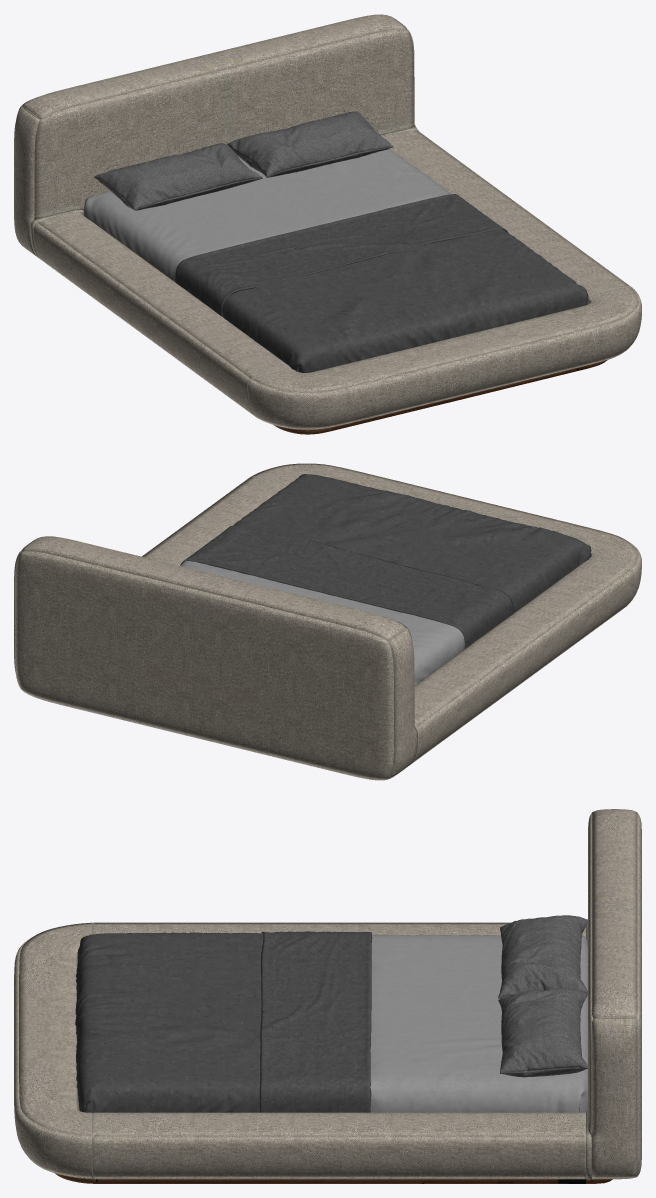
The model's file is bedFloss.glb.
3 renders of one model, top to bottom at view 1: azimuth 30°, elevation 25°; view 2: azimuth 150°, elevation 25°; view 3: azimuth 270°, elevation 25°, orthographic. The views are drawn at different scales.
Parts seen in each view (by area): view 1: bed, blanket, mattres, pillow, wood frame; view 2: bed, blanket, mattres; view 3: bed, blanket, mattres, pillow, wood frame.
Boxes of the visible parts, x1=… form: bed: x1=14, y1=14, x2=641, y2=430; blanket: x1=174, y1=194, x2=588, y2=372; mattres: x1=83, y1=148, x2=451, y2=281; pillow: x1=94, y1=111, x2=393, y2=210; wood frame: x1=274, y1=360, x2=607, y2=434; bed: x1=14, y1=463, x2=641, y2=780; blanket: x1=180, y1=474, x2=591, y2=648; mattres: x1=180, y1=560, x2=464, y2=685; bed: x1=14, y1=809, x2=641, y2=1179; blanket: x1=75, y1=931, x2=372, y2=1112; mattres: x1=370, y1=934, x2=587, y2=1112; pillow: x1=498, y1=915, x2=587, y2=1077; wood frame: x1=55, y1=1173, x2=612, y2=1183.
Bounding box in the file's own units: 2.09 × 0.8379 × 2.54.
6 materials, 6 textured.
